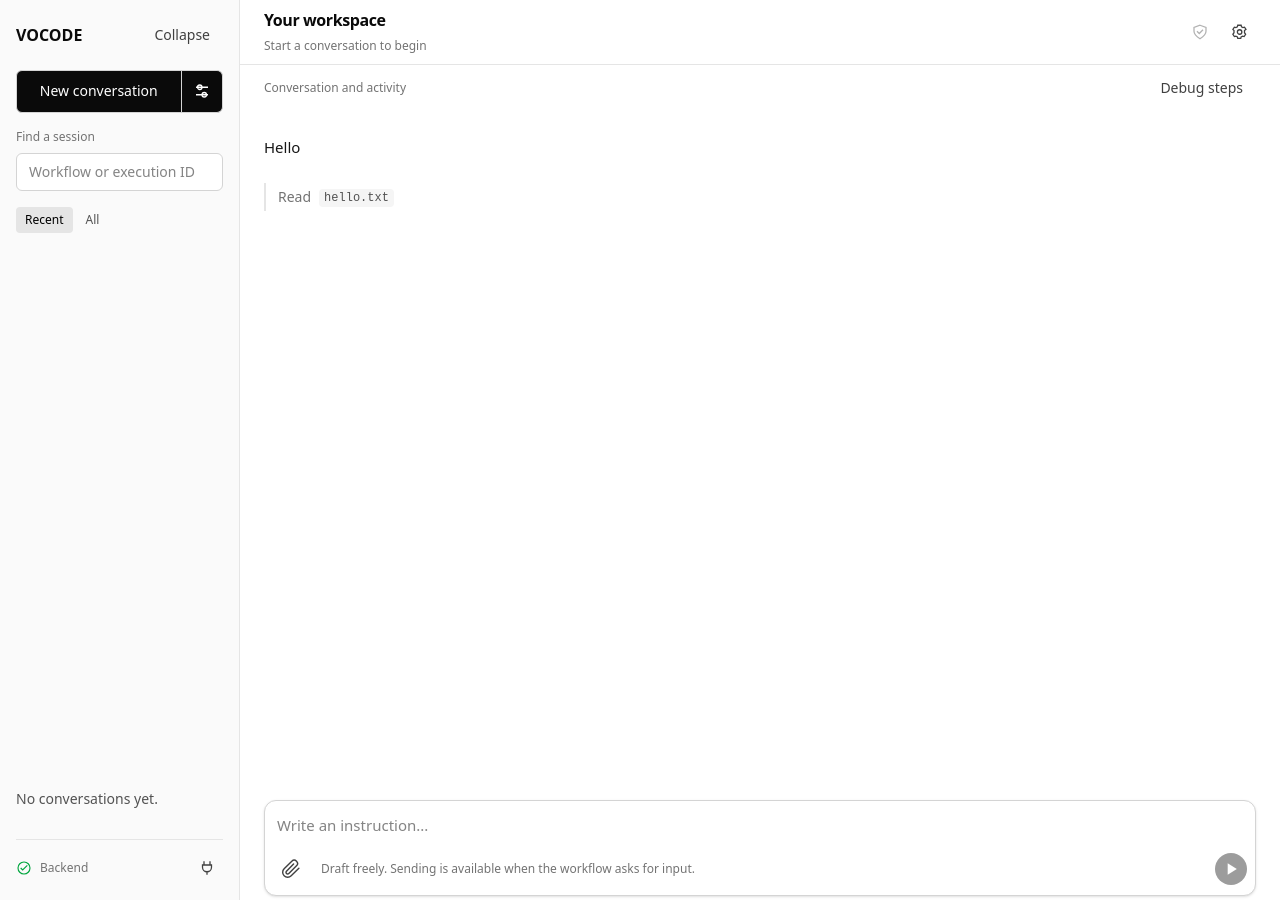
Test: disabling debug closes the debug inspector without reopening it later
The width and height of the screenshot is (1280, 900).
Click the button "Debug steps".
click(1202, 88)  # box [1147, 69, 1256, 107]
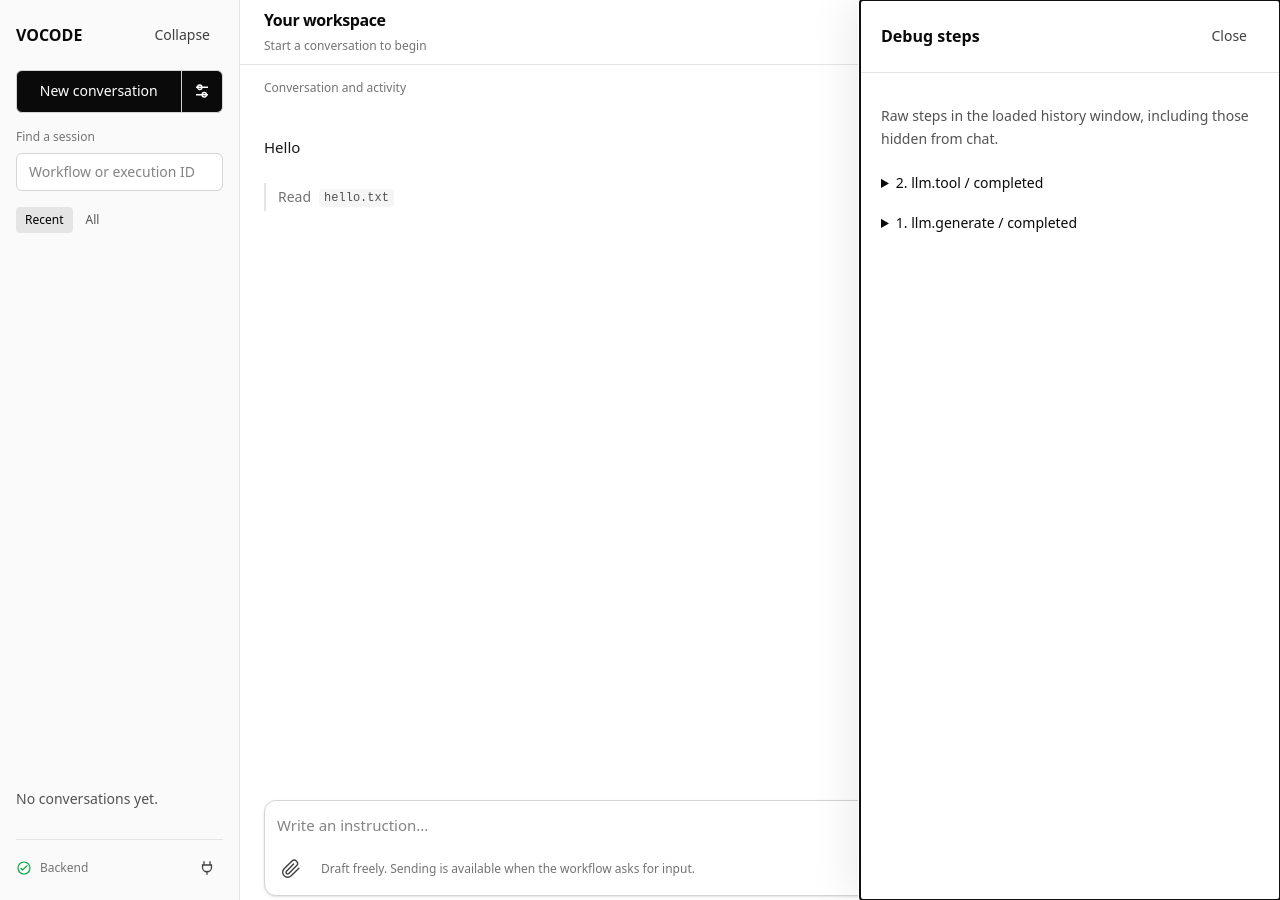
Check: the element named "Work inspector" is shown, box [860, 0, 1279, 899]
